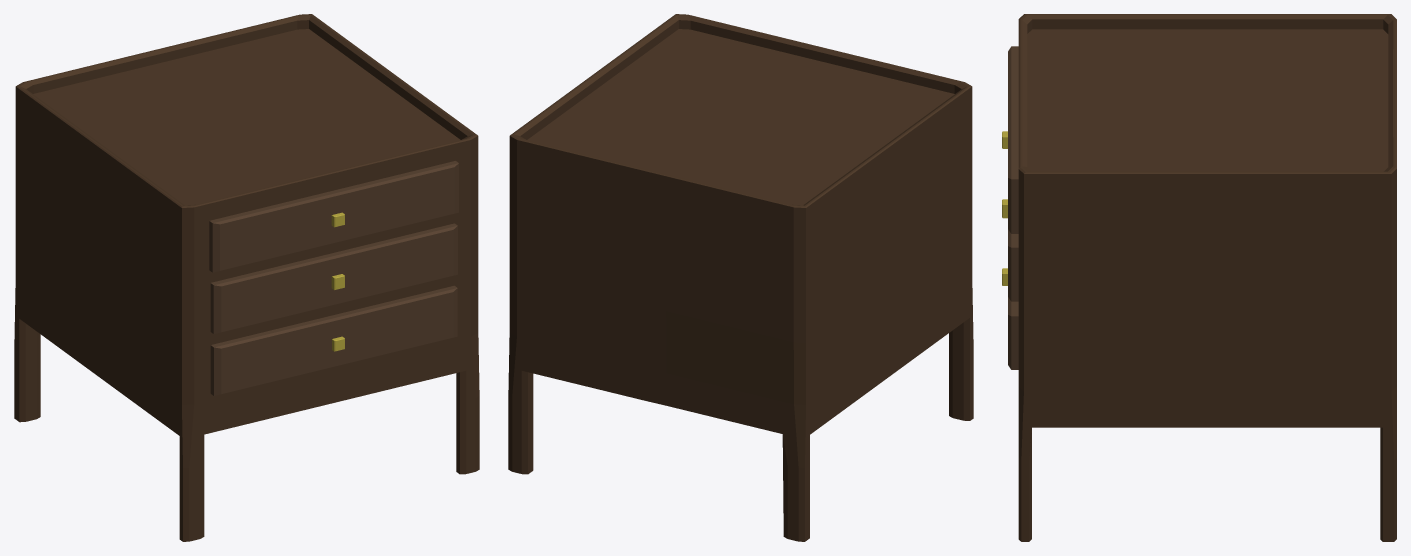
The model's file is Cabinet.fbx.
3 views of the same model, side by side, from view 1: azimuth 30°, elevation 25°; view 2: azimuth 150°, elevation 25°; view 3: azimuth 270°, elevation 25° (orthographic). The views are drawn at different scales.
Visible parts, largest first — view 1: Cabinet; view 2: Cabinet; view 3: Cabinet.
Boxes of the visible parts, x1,y1,x2,y2 form: Cabinet: [14, 14, 479, 541]; Cabinet: [508, 14, 973, 541]; Cabinet: [1002, 14, 1396, 541].
Size of the model in its own units: 85.15 by 91.57 by 88.87.
